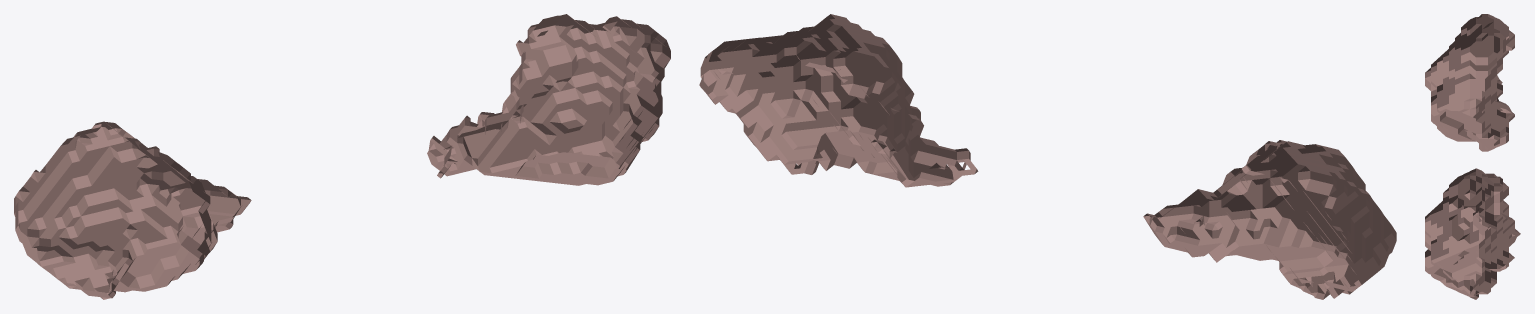
File: region_0182_Vmn__mesencephalic_nucleus_of_the_trigeminal_nerve_.glb
The picture shows the model from 3 angles, left to right: view 1: azimuth 30°, elevation 25°; view 2: azimuth 150°, elevation 25°; view 3: azimuth 270°, elevation 25°; orthographic projection. The views are drawn at different scales.
Parts seen in each view (by area): view 1: world; view 2: world; view 3: world.
Boxes of the visible parts, x1,y1,x2,y2 form: world: (14,14,670,299); world: (699,14,1396,299); world: (1425,14,1520,299).
Size of the model in its own units: 0.696 by 0.168 by 0.128.
